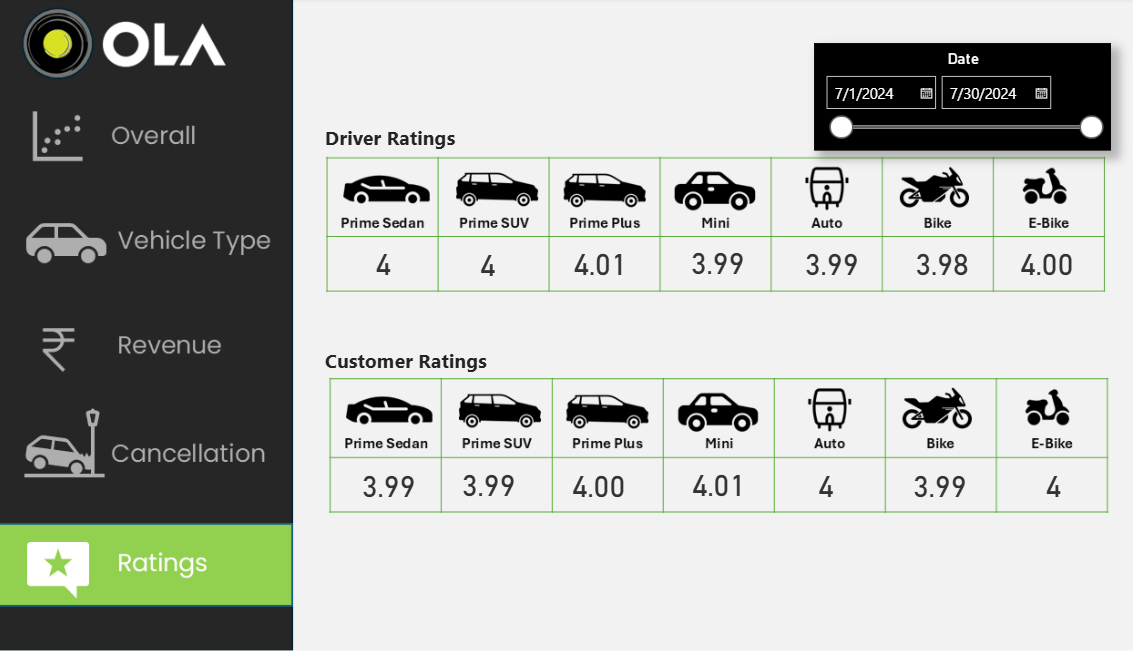

The page's visual inventory and layout, read from the dashboard file:
{"tool":"powerbi","page":{"name":"Ratings","canvas":[1280,720],"ordinal":4},"visuals":[{"type":"actionButton","box":[0,109.8,322.5,86.4],"z":0},{"type":"actionButton","box":[0,343.1,322.5,90.6],"z":1000},{"type":"actionButton","box":[0,226.4,322.5,90.6],"z":2000},{"type":"actionButton","box":[1.4,448.7,322.5,90.6],"z":3000},{"type":"advanceCardE03760C5AB684758B56AA29F9E6C257B","fields":{"mainMeasure":["Avg(July.Driver_Ratings)"]},"box":[366.3,271.9,113.3,45.3],"z":3001},{"type":"advanceCardE03760C5AB684758B56AA29F9E6C257B","fields":{"mainMeasure":["Avg(July.Driver_Ratings)"]},"box":[1096.3,271.4,110.1,45.2],"z":3002},{"type":"advanceCardE03760C5AB684758B56AA29F9E6C257B","fields":{"mainMeasure":["Avg(July.Driver_Ratings)"]},"box":[977.2,271.4,119.1,45.2],"z":3003},{"type":"advanceCardE03760C5AB684758B56AA29F9E6C257B","fields":{"mainMeasure":["Avg(July.Driver_Ratings)"]},"box":[853.5,266.9,123.7,54.3],"z":3004},{"type":"advanceCardE03760C5AB684758B56AA29F9E6C257B","fields":{"mainMeasure":["Avg(July.Driver_Ratings)"]},"box":[725.4,263.9,128.2,60.3],"z":3005},{"type":"advanceCardE03760C5AB684758B56AA29F9E6C257B","fields":{"mainMeasure":["Avg(July.Driver_Ratings)"]},"box":[597.2,271.4,128.2,45.2],"z":3006},{"type":"advanceCardE03760C5AB684758B56AA29F9E6C257B","fields":{"mainMeasure":["Avg(July.Driver_Ratings)"]},"box":[479.5,260.9,117.6,69.4],"z":3007},{"type":"textbox","box":[354.4,378.5,211.1,39.2],"z":3009},{"type":"advanceCardE03760C5AB684758B56AA29F9E6C257B","fields":{"mainMeasure":["Avg(July.Customer_Rating)"]},"box":[366.4,514.2,125.2,46.7],"z":3010},{"type":"advanceCardE03760C5AB684758B56AA29F9E6C257B","fields":{"mainMeasure":["Avg(July.Customer_Rating)"]},"box":[476.5,514.2,125.2,45.2],"z":3011},{"type":"advanceCardE03760C5AB684758B56AA29F9E6C257B","fields":{"mainMeasure":["Avg(July.Customer_Rating)"]},"box":[597.2,514.2,125.2,46.7],"z":3012},{"type":"advanceCardE03760C5AB684758B56AA29F9E6C257B","fields":{"mainMeasure":["Avg(July.Customer_Rating)"]},"box":[728.4,514.2,125.2,45.2],"z":3013},{"type":"advanceCardE03760C5AB684758B56AA29F9E6C257B","fields":{"mainMeasure":["Avg(July.Customer_Rating)"]},"box":[846,502.2,125.2,70.9],"z":3014},{"type":"advanceCardE03760C5AB684758B56AA29F9E6C257B","fields":{"mainMeasure":["Avg(July.Customer_Rating)"]},"box":[971.2,514.2,125.2,46.7],"z":3015},{"type":"advanceCardE03760C5AB684758B56AA29F9E6C257B","fields":{"mainMeasure":["Avg(July.Customer_Rating)"]},"box":[1096.3,514.2,125.2,46.7],"z":3016},{"type":"textbox","box":[354.4,134.2,185.5,42.2],"z":3017},{"type":"slicer","title":"Date","fields":{"Values":["July.Date"]},"box":[895.8,51.3,325.7,117.6],"z":3018}]}

Visuals, with their boxes on the page's 1280x720 design canvas (x1, y1, x2, y2). These are canvas units, not pixel positions in the 1133x651 screenshot, which may show the page scaled, cropped or inside an application window:
actionButton: [0,110,322,196]
actionButton: [0,343,322,434]
actionButton: [0,226,322,317]
actionButton: [1,449,324,539]
advanceCardE03760C5AB684758B56AA29F9E6C257B - Avg(July.Driver_Ratings): [366,272,480,317]
advanceCardE03760C5AB684758B56AA29F9E6C257B - Avg(July.Driver_Ratings): [1096,271,1206,317]
advanceCardE03760C5AB684758B56AA29F9E6C257B - Avg(July.Driver_Ratings): [977,271,1096,317]
advanceCardE03760C5AB684758B56AA29F9E6C257B - Avg(July.Driver_Ratings): [854,267,977,321]
advanceCardE03760C5AB684758B56AA29F9E6C257B - Avg(July.Driver_Ratings): [725,264,854,324]
advanceCardE03760C5AB684758B56AA29F9E6C257B - Avg(July.Driver_Ratings): [597,271,725,317]
advanceCardE03760C5AB684758B56AA29F9E6C257B - Avg(July.Driver_Ratings): [480,261,597,330]
textbox: [354,378,566,418]
advanceCardE03760C5AB684758B56AA29F9E6C257B - Avg(July.Customer_Rating): [366,514,492,561]
advanceCardE03760C5AB684758B56AA29F9E6C257B - Avg(July.Customer_Rating): [476,514,602,559]
advanceCardE03760C5AB684758B56AA29F9E6C257B - Avg(July.Customer_Rating): [597,514,722,561]
advanceCardE03760C5AB684758B56AA29F9E6C257B - Avg(July.Customer_Rating): [728,514,854,559]
advanceCardE03760C5AB684758B56AA29F9E6C257B - Avg(July.Customer_Rating): [846,502,971,573]
advanceCardE03760C5AB684758B56AA29F9E6C257B - Avg(July.Customer_Rating): [971,514,1096,561]
advanceCardE03760C5AB684758B56AA29F9E6C257B - Avg(July.Customer_Rating): [1096,514,1222,561]
textbox: [354,134,540,176]
"Date" slicer: [896,51,1222,169]
